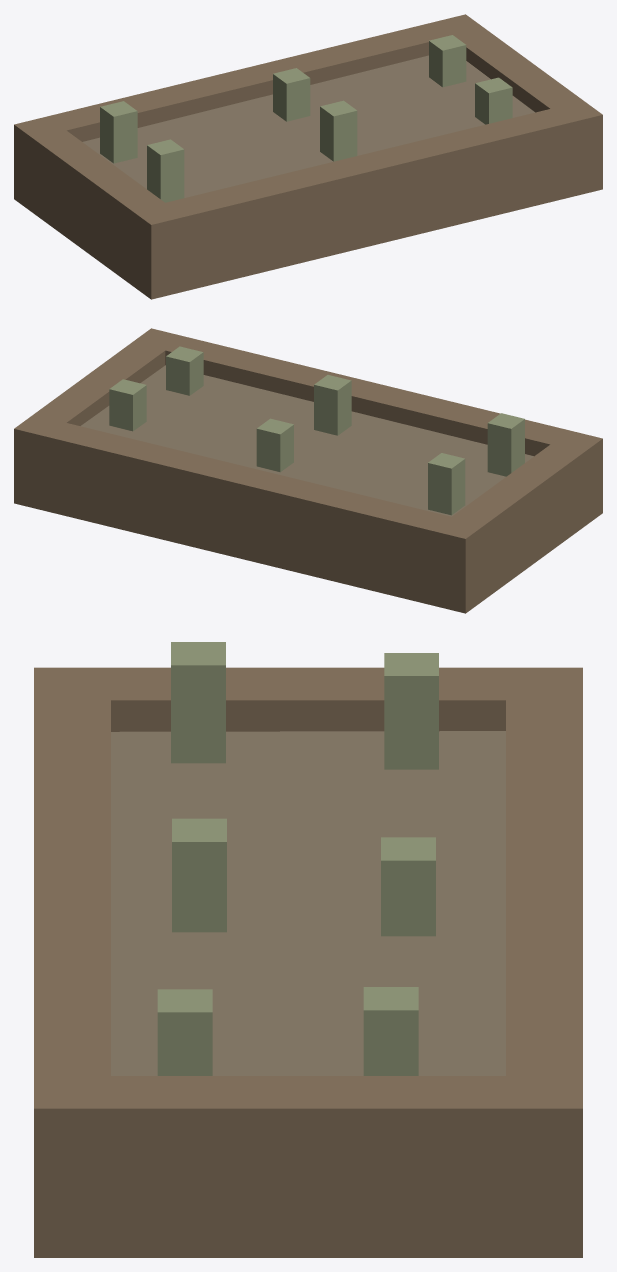
Rendered from garden_plot.glb.
3 views of the same model, one above another, from view 1: azimuth 30°, elevation 25°; view 2: azimuth 150°, elevation 25°; view 3: azimuth 270°, elevation 25° (orthographic). The views are drawn at different scales.
Visible parts, largest first — view 1: garden_plot; view 2: garden_plot; view 3: garden_plot.
Part boxes in pixels (x1,y1,x2,y2): garden_plot: [14, 14, 602, 299]; garden_plot: [14, 328, 602, 613]; garden_plot: [34, 642, 582, 1257].
Size of the model in its own units: 1.9 by 0.442 by 1.
